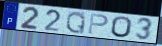2: (20, 5, 40, 30), (43, 9, 63, 32)
3: (134, 16, 154, 42)
O: (110, 15, 133, 39)
P: (87, 13, 110, 35)
Q: (65, 10, 87, 35)
